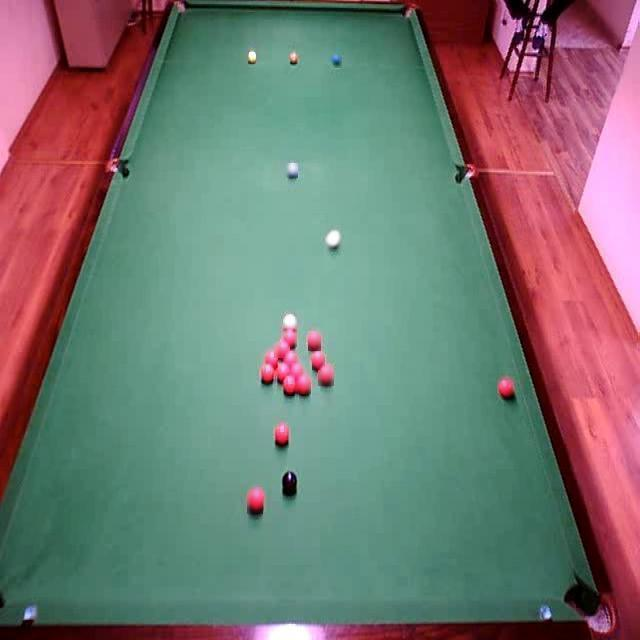Ball: (325, 225, 343, 252), (247, 487, 263, 514), (273, 422, 291, 446), (281, 469, 297, 495), (295, 369, 311, 394), (318, 364, 334, 386), (289, 361, 305, 383), (499, 377, 514, 400), (280, 376, 296, 397), (283, 351, 299, 369), (262, 348, 276, 368), (281, 330, 297, 347), (312, 350, 325, 370), (308, 331, 321, 351), (274, 342, 290, 358), (283, 314, 297, 331), (261, 366, 273, 384), (284, 163, 298, 178), (330, 51, 342, 68), (246, 49, 258, 65), (288, 53, 300, 67), (278, 363, 289, 376)
